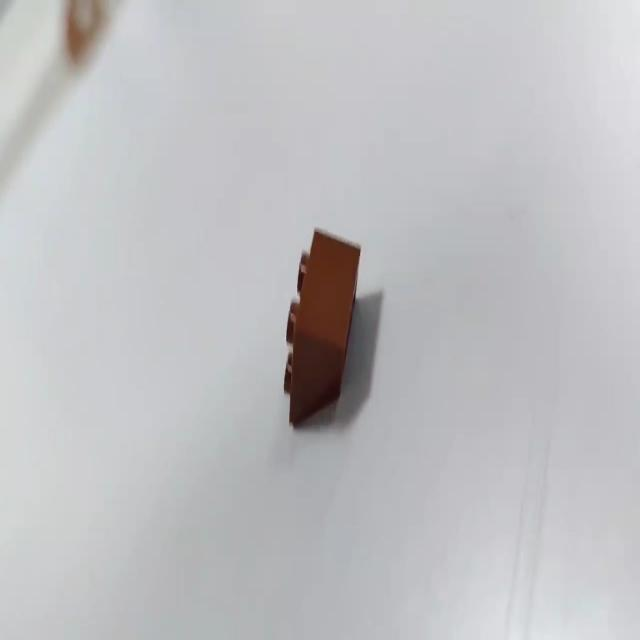X2x2x1: (282, 225, 362, 426)
